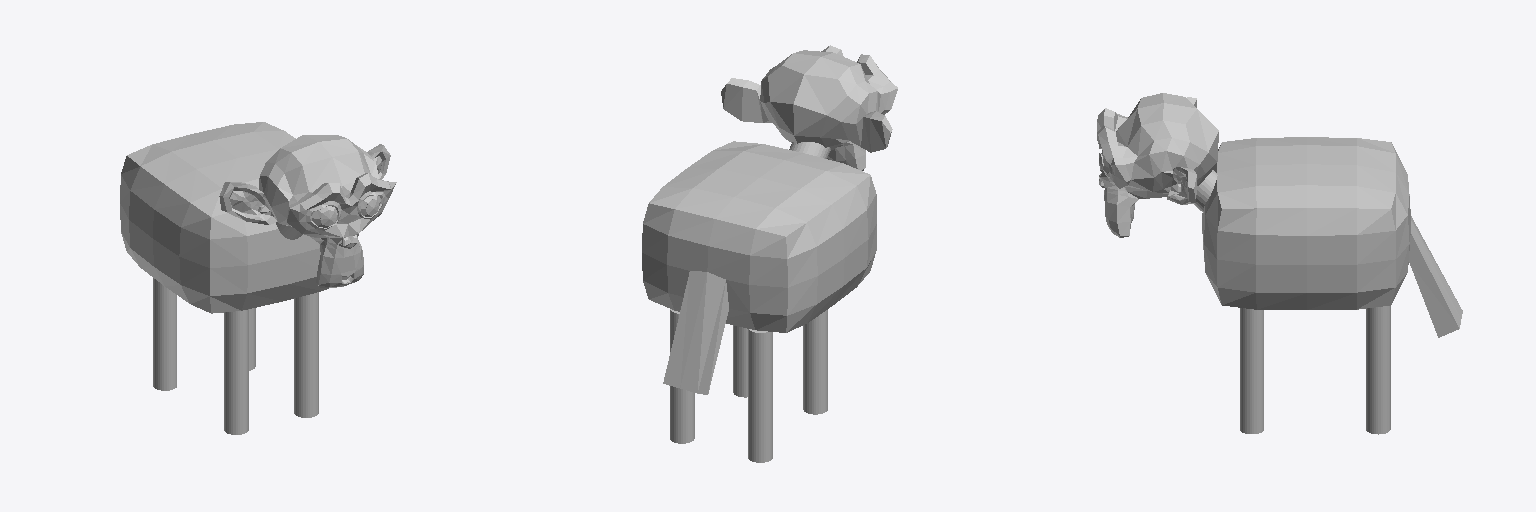
File: chien.obj
3 renders of one model, left to right at view 1: azimuth 30°, elevation 25°; view 2: azimuth 150°, elevation 25°; view 3: azimuth 270°, elevation 25°, orthographic.
Parts seen in each view (by area): view 1: ungrouped_ungrouped_None, Suzanne_Suzanne_None, Cylinder.001_Cylinder.001_None, Cylinder_Cylinder_None, Cylinder.003_Cylinder.003_None; view 2: ungrouped_ungrouped_None, Suzanne_Suzanne_None, Cylinder.003_Cylinder.003_None, Cylinder.001_Cylinder.001_None, Cylinder.002_Cylinder.002_None, Cylinder_Cylinder_None; view 3: ungrouped_ungrouped_None, Suzanne_Suzanne_None, Cylinder.002_Cylinder.002_None, Cylinder_Cylinder_None.
Boxes of the visible parts, <box> form: ungrouped_ungrouped_None: <box>120,122,328,313</box>; Suzanne_Suzanne_None: <box>219,135,396,287</box>; Cylinder.001_Cylinder.001_None: <box>224,309,248,434</box>; Cylinder_Cylinder_None: <box>294,292,318,417</box>; Cylinder.003_Cylinder.003_None: <box>153,278,176,390</box>; ungrouped_ungrouped_None: <box>642,141,876,394</box>; Suzanne_Suzanne_None: <box>721,45,897,170</box>; Cylinder.003_Cylinder.003_None: <box>748,329,772,462</box>; Cylinder.001_Cylinder.001_None: <box>803,310,827,414</box>; Cylinder.002_Cylinder.002_None: <box>670,309,694,443</box>; Cylinder_Cylinder_None: <box>733,325,747,397</box>; ungrouped_ungrouped_None: <box>1202,137,1462,337</box>; Suzanne_Suzanne_None: <box>1097,93,1218,237</box>; Cylinder.002_Cylinder.002_None: <box>1366,306,1390,434</box>; Cylinder_Cylinder_None: <box>1240,308,1263,433</box>.
Bounding box in the file's own units: 16.92 × 27.91 × 29.76.